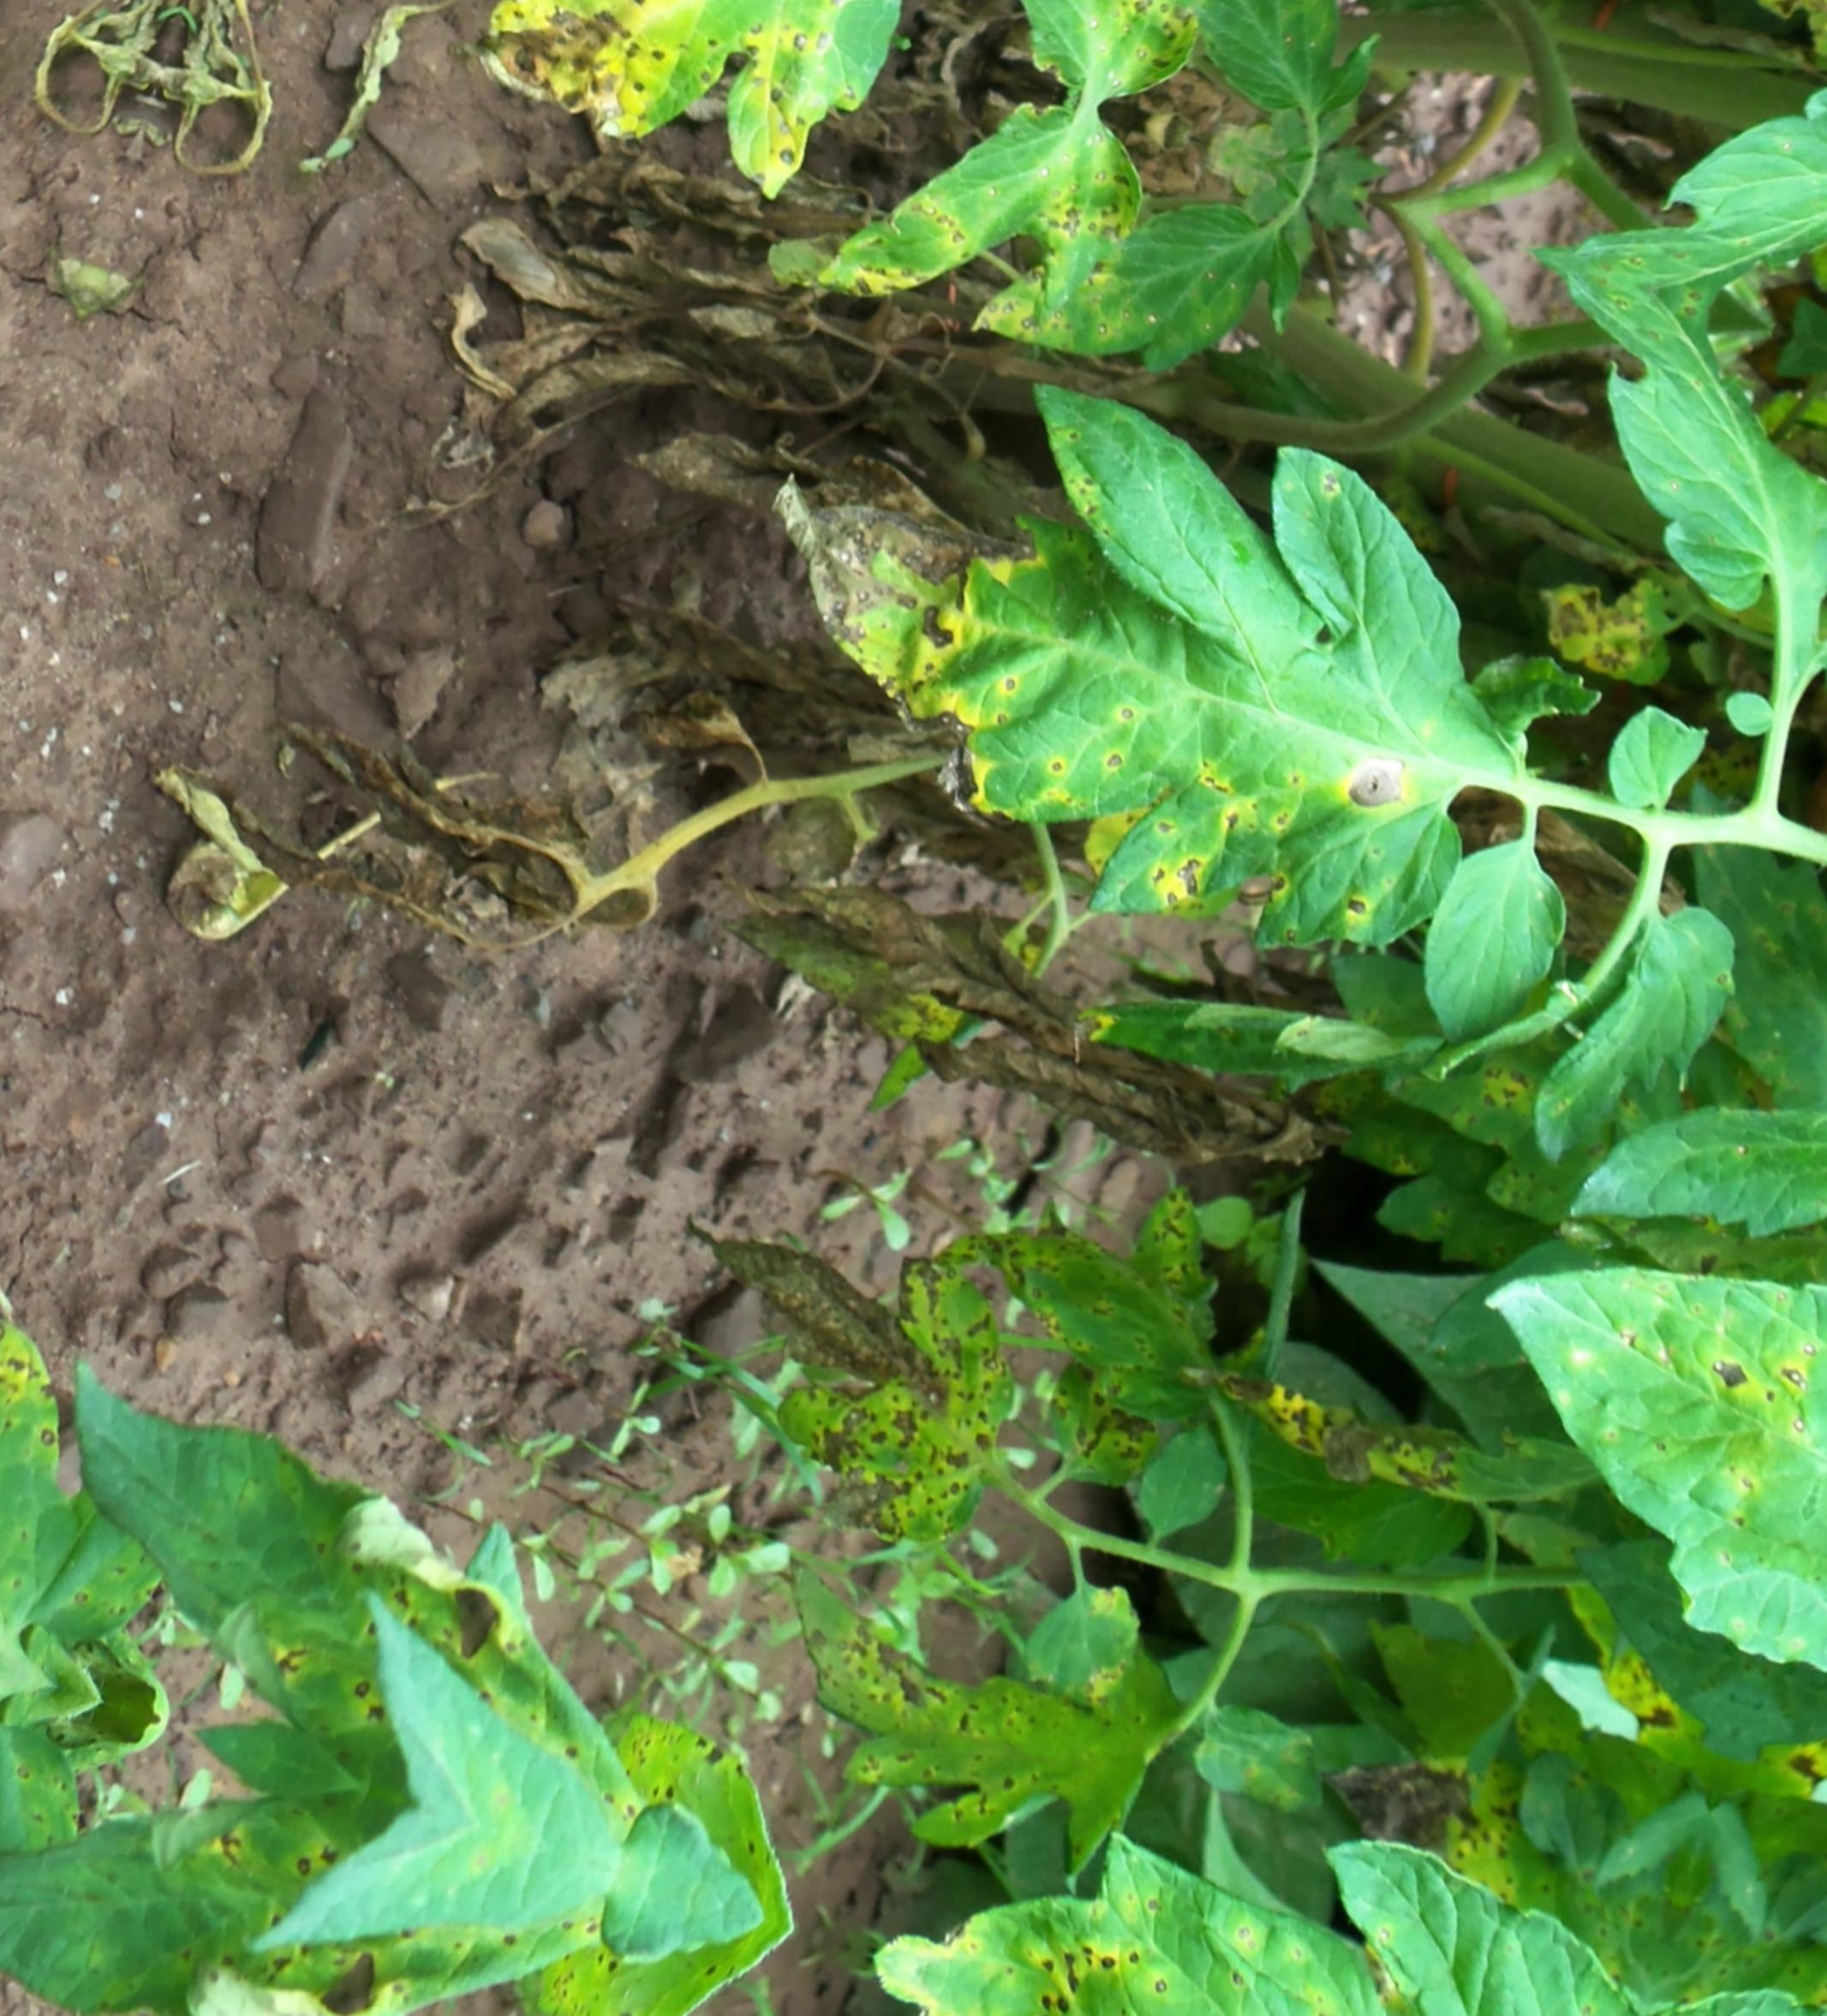Tomato Septoria leaf spot: (708, 313, 1614, 1038), (1333, 1108, 1827, 1751), (845, 1656, 1681, 2016), (0, 1119, 295, 1717), (443, 0, 928, 248), (819, 46, 1133, 367)
